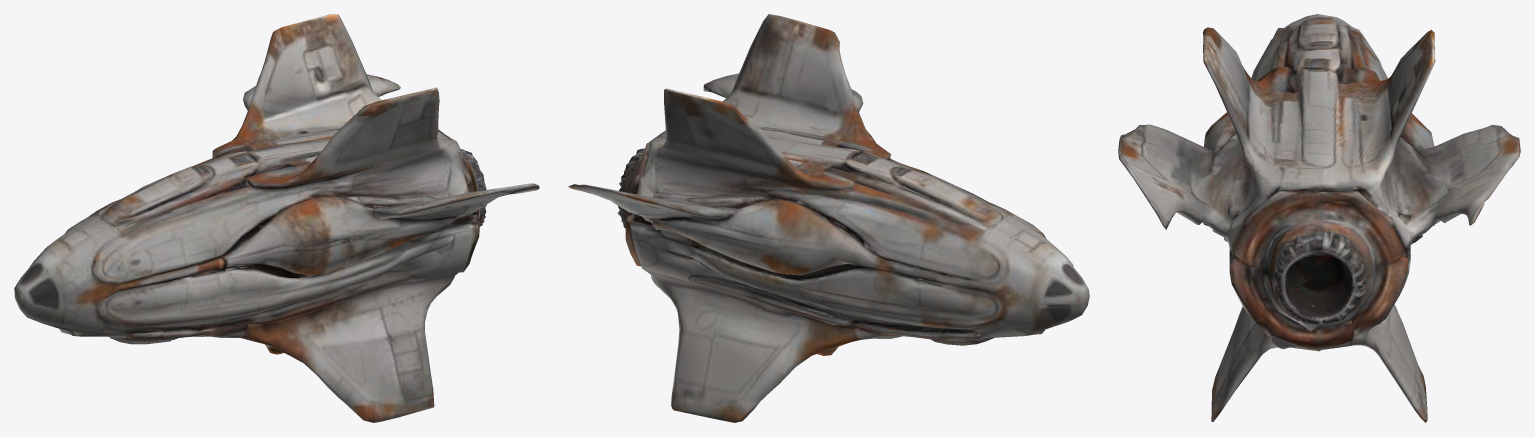
Rendered from packet.glb.
The picture shows the model from 3 angles, left to right: view 1: azimuth 30°, elevation 25°; view 2: azimuth 150°, elevation 25°; view 3: azimuth 270°, elevation 25°; orthographic projection. The views are drawn at different scales.
Size of the model in its own units: 1.99 by 1.36 by 1.37.
Materials: 1 (1 with a texture image).
